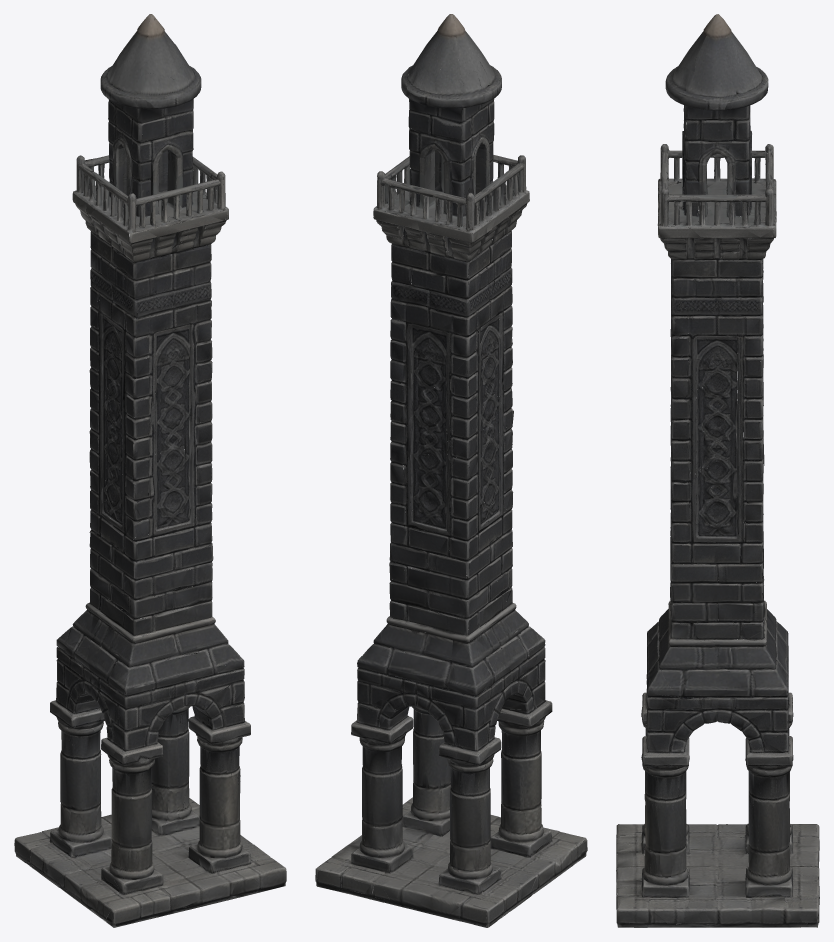
File: M10_Minaret.fbx
3 views of the same model, side by side, from view 1: azimuth 30°, elevation 25°; view 2: azimuth 150°, elevation 25°; view 3: azimuth 270°, elevation 25° (orthographic).
Parts seen in each view (by area): view 1: M10_Minaret.039; view 2: M10_Minaret.039; view 3: M10_Minaret.039.
Part boxes in pixels (x1,y1,x2,y2): M10_Minaret.039: (14,14,286,927); M10_Minaret.039: (315,14,587,927); M10_Minaret.039: (616,14,819,927).
Bounding box in the file's own units: 3.4 × 16 × 3.39.
Materials: 1 (1 with a texture image).
